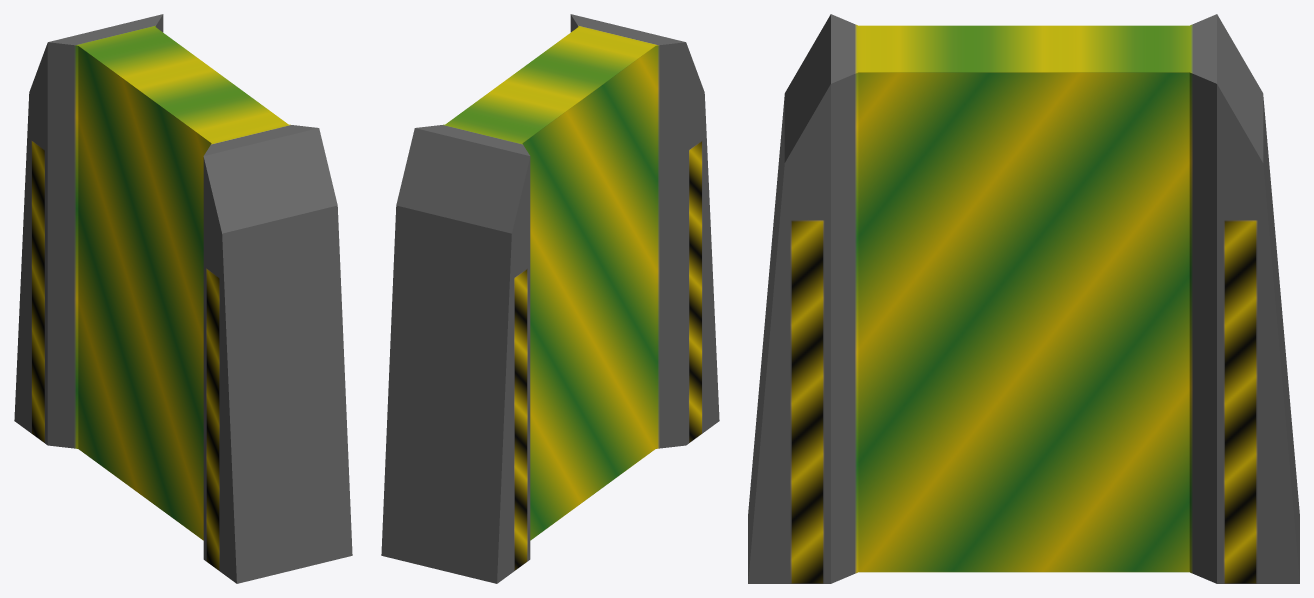
The model's file is teleporter.fbx.
3 renders of one model, left to right at view 1: azimuth 30°, elevation 25°; view 2: azimuth 150°, elevation 25°; view 3: azimuth 270°, elevation 25°, orthographic. The views are drawn at different scales.
Parts seen in each view (by area): view 1: polySurface1; view 2: polySurface1; view 3: polySurface1.
Part boxes in pixels (left/top/right/bottom): polySurface1: left=14, top=14, right=352, bottom=583; polySurface1: left=381, top=14, right=719, bottom=583; polySurface1: left=748, top=14, right=1299, bottom=583.
Bounding box in the file's own units: 0.3 × 1 × 1.
1 material, 1 textured.
